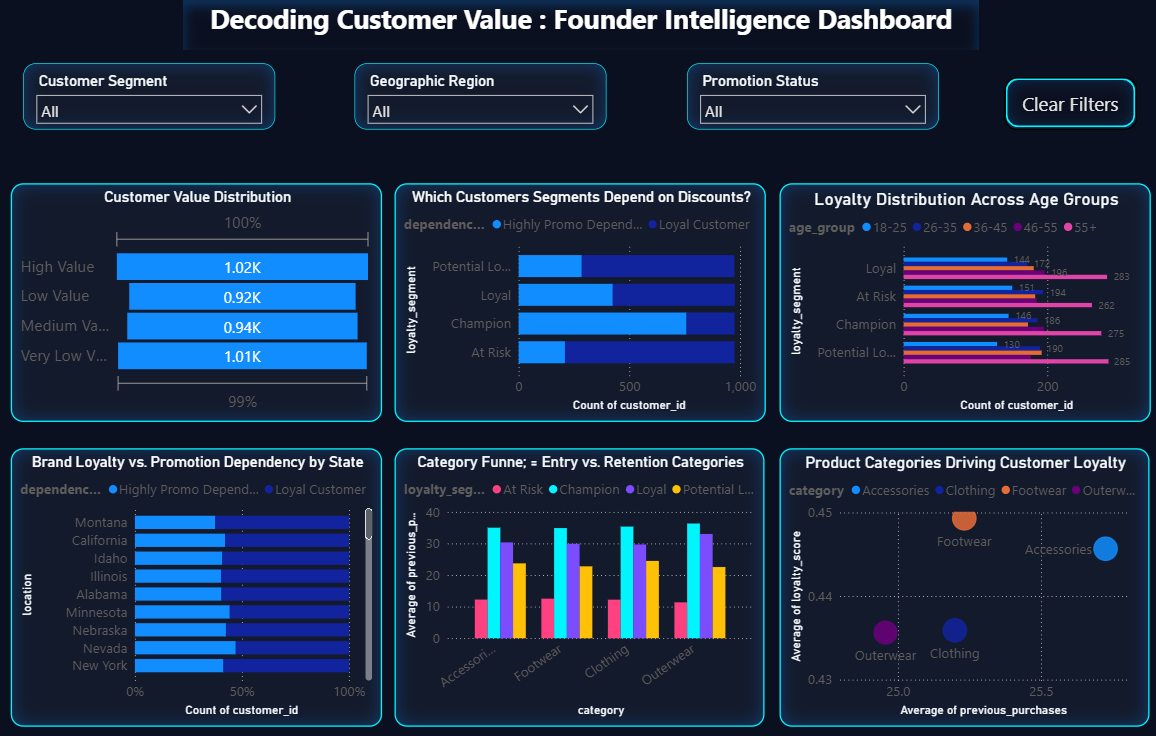

Layout of this report page (visuals, bound fields, positions):
{"tool":"powerbi","page":{"name":"Page 1","canvas":[1402,900],"ordinal":0},"visuals":[{"type":"funnel","title":"Customer Value Distribution","fields":{"Y":["Count(customer_intelligence_dataset.customer_id)"],"Category":["customer_intelligence_dataset.Customer Value Category"]},"box":[16,224,448,288],"z":0},{"type":"barChart","title":"Which Customers Segments Depend on Discounts?","fields":{"Category":["customer_intelligence_dataset.loyalty_segment"],"Y":["CountNonNull(customer_intelligence_dataset.customer_id)"],"Series":["customer_intelligence_dataset.dependency_segment"]},"box":[480,224,448,288],"z":1000},{"type":"clusteredColumnChart","title":"Category Funne; = Entry vs. Retention Categories","fields":{"Category":["customer_intelligence_dataset.category"],"Y":["Avg(customer_intelligence_dataset.previous_purchases)"],"Series":["customer_intelligence_dataset.loyalty_segment"]},"box":[480,544,446,336],"z":2000},{"type":"scatterChart","title":"Product Categories Driving Customer Loyalty","fields":{"X":["Avg(customer_intelligence_dataset.previous_purchases)"],"Y":["Avg(customer_intelligence_dataset.loyalty_score)"],"Series":["customer_intelligence_dataset.category"],"Size":["Avg(customer_intelligence_dataset.purchase_amount_(usd))"]},"box":[944,544,446,336],"z":3000},{"type":"textbox","box":[224,0,960,64],"z":4000},{"type":"clusteredBarChart","title":"Loyalty Distribution Across Age Groups","fields":{"Category":["customer_intelligence_dataset.loyalty_segment"],"Y":["CountNonNull(customer_intelligence_dataset.customer_id)"],"Series":["customer_intelligence_dataset.age_group"]},"box":[944,224,448,288],"z":5000},{"type":"slicer","fields":{"Values":["customer_intelligence_dataset.location"]},"box":[432,80,304,80],"z":6000},{"type":"slicer","fields":{"Values":["customer_intelligence_dataset.loyalty_segment"]},"box":[32,80,304,80],"z":7000},{"type":"slicer","fields":{"Values":["customer_intelligence_dataset.discount_applied"]},"box":[832,80,304,80],"z":8000},{"type":"actionButton","title":"Clear Filters","box":[1216,96,160,64],"z":9000},{"type":"hundredPercentStackedBarChart","title":"Brand Loyalty vs. Promotion Dependency by State","fields":{"Y":["CountNonNull(customer_intelligence_dataset.customer_id)"],"Series":["customer_intelligence_dataset.dependency_segment"],"Category":["customer_intelligence_dataset.location"]},"box":[16,544,448,336],"z":10000}]}

Visuals, with their boxes in screenshot pixels (x1, y1, x2, y2), scaled from the page's 1402x900 canvas onto the 1156x736 screenshot:
"Customer Value Distribution" funnel: rect(13, 183, 383, 419)
"Which Customers Segments Depend on Discounts?" barChart: rect(396, 183, 765, 419)
"Category Funne; = Entry vs. Retention Categories" clusteredColumnChart: rect(396, 445, 764, 720)
"Product Categories Driving Customer Loyalty" scatterChart: rect(778, 445, 1146, 720)
textbox: rect(185, 0, 976, 52)
"Loyalty Distribution Across Age Groups" clusteredBarChart: rect(778, 183, 1148, 419)
slicer - customer_intelligence_dataset.location: rect(356, 65, 607, 131)
slicer - customer_intelligence_dataset.loyalty_segment: rect(26, 65, 277, 131)
slicer - customer_intelligence_dataset.discount_applied: rect(686, 65, 937, 131)
"Clear Filters" actionButton: rect(1003, 79, 1135, 131)
"Brand Loyalty vs. Promotion Dependency by State" hundredPercentStackedBarChart: rect(13, 445, 383, 720)
